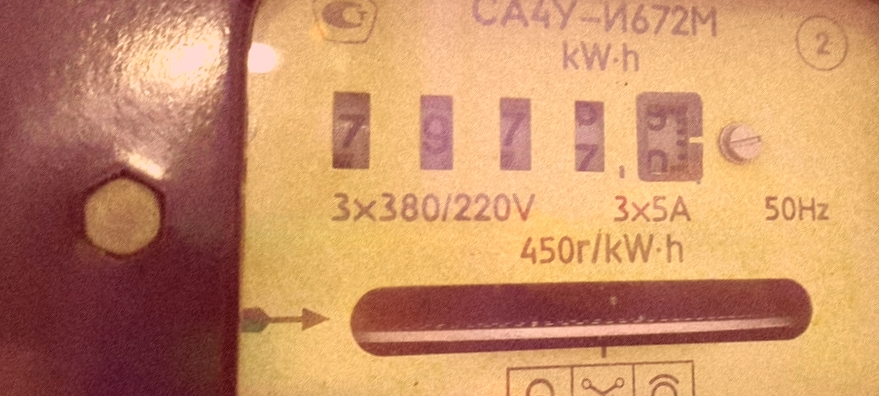0: (646, 144, 670, 174)
7: (334, 107, 369, 153), (573, 133, 604, 176), (500, 107, 530, 148)
9: (421, 109, 453, 157), (644, 100, 674, 133)
screen: (318, 67, 722, 205)
